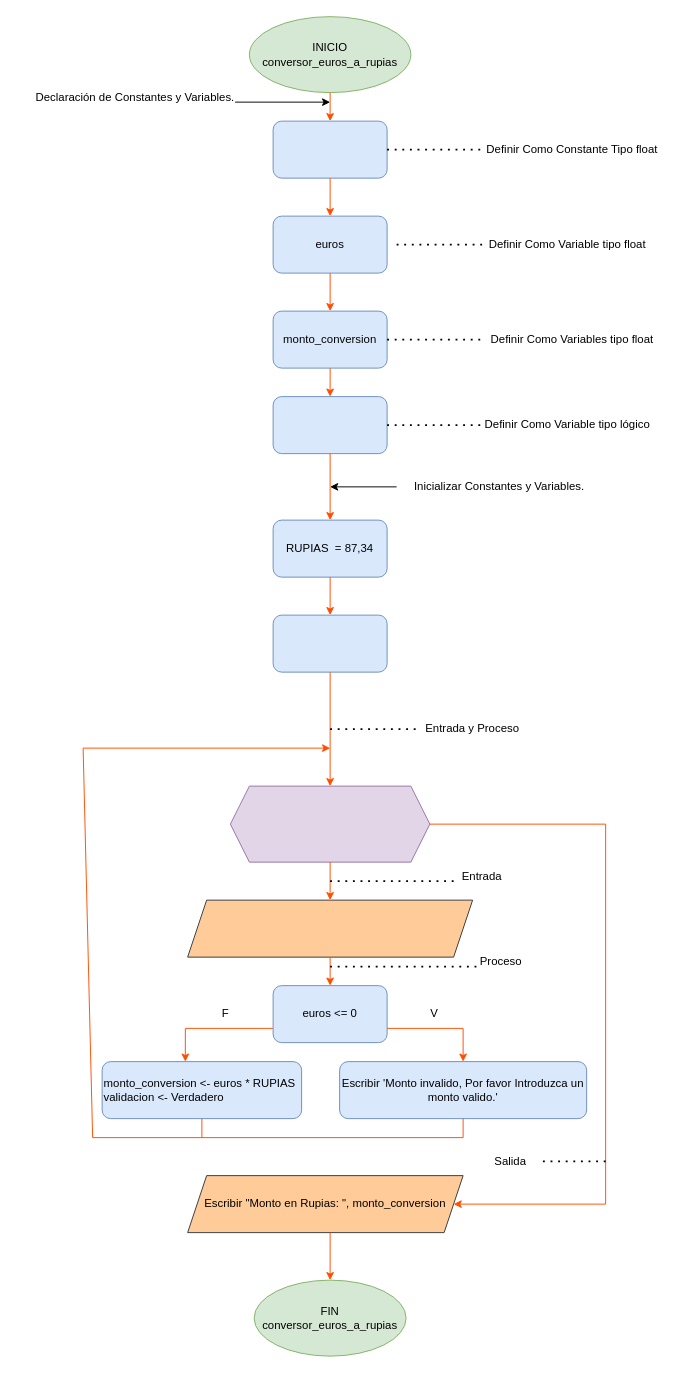
Image size: 678x1373. Some labels were removed from this diagram. Here are the shapes that lost their labels. From the top down, the box of each, then its label:
(272, 120, 387, 178): RUPIAS
(272, 396, 387, 454): validacion
(272, 614, 387, 672): validacion = False
(229, 785, 430, 862): Mientras validacion = Falso Hacer
(187, 899, 473, 957): Escribir "Por favor introduzca un monto: " Leer euros
